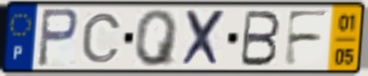B: (237, 9, 283, 69)
C: (80, 11, 124, 65)
F: (282, 9, 333, 69)
P: (35, 7, 81, 70)
Q: (134, 8, 182, 68)
X: (180, 8, 229, 69)
